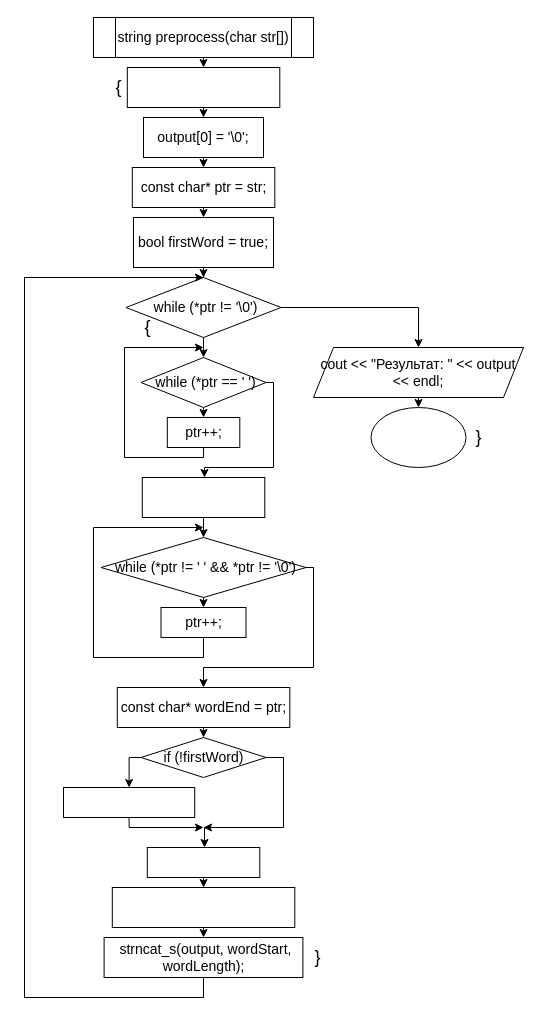
Image size: 541x1023. Some labels were removed from this diagram. Here are the shapes that lost their labels. From the top down, the centre of each, then its label:
the point at 203,87: char output[1000];
the point at 418,437: return output;
the point at 203,497: const char* wordStart = ptr;
the point at 128,802: strcat_s(output, " ");
the point at 203,862: firstWord = false;
the point at 203,907: int wordLength = wordEnd - wordStart;
